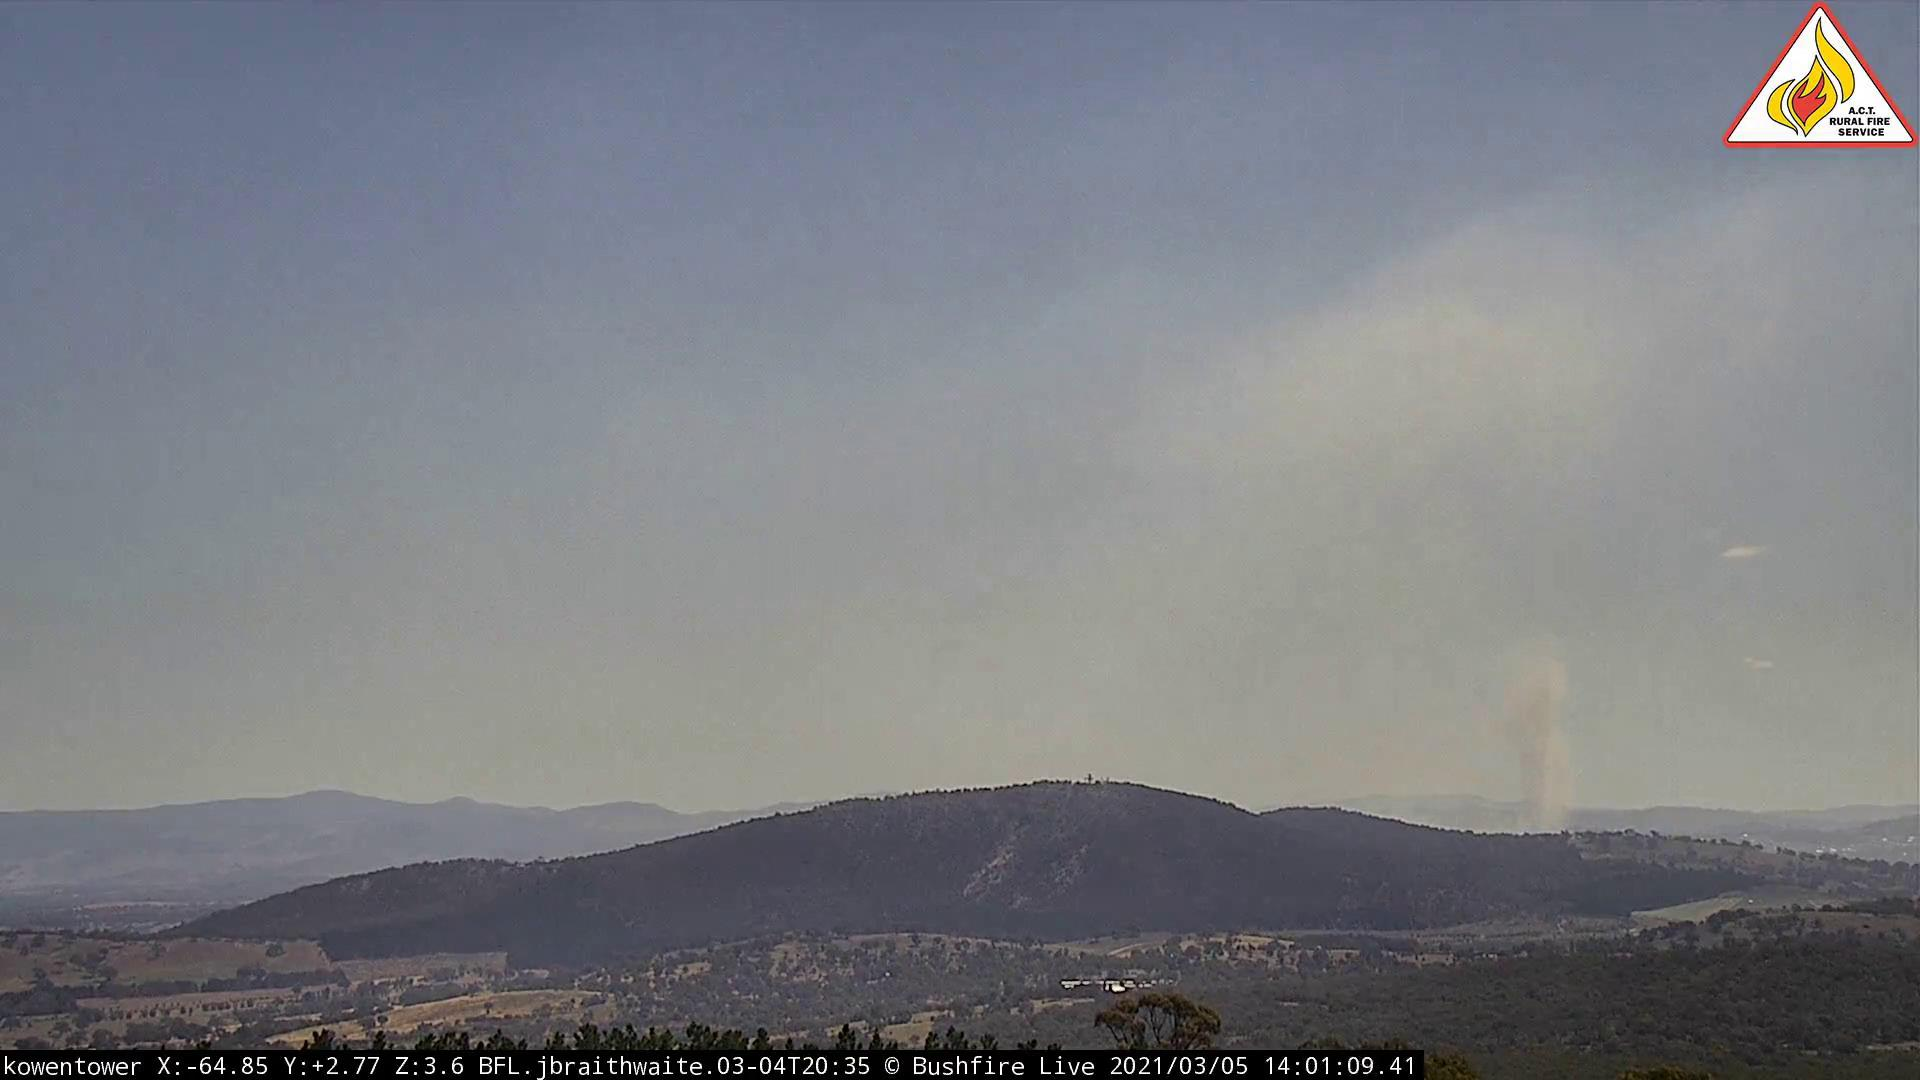Smoke: (1469, 636, 1615, 837)
